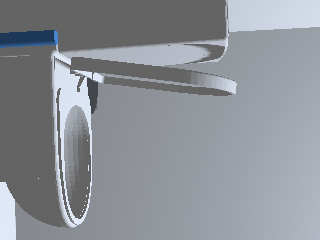lid_1: (69, 57, 236, 95)
